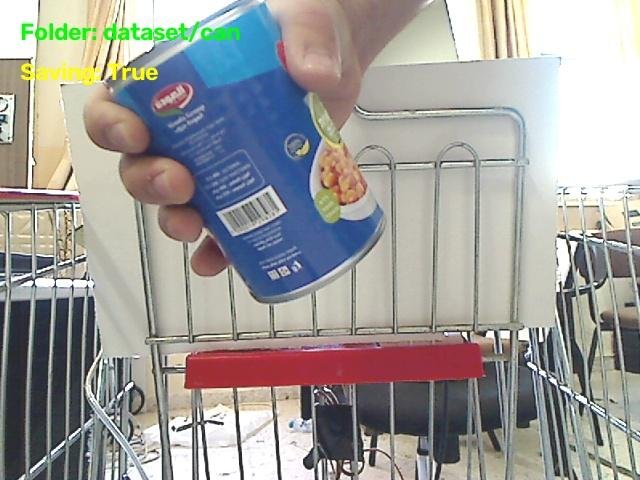can: (108, 0, 383, 302)
